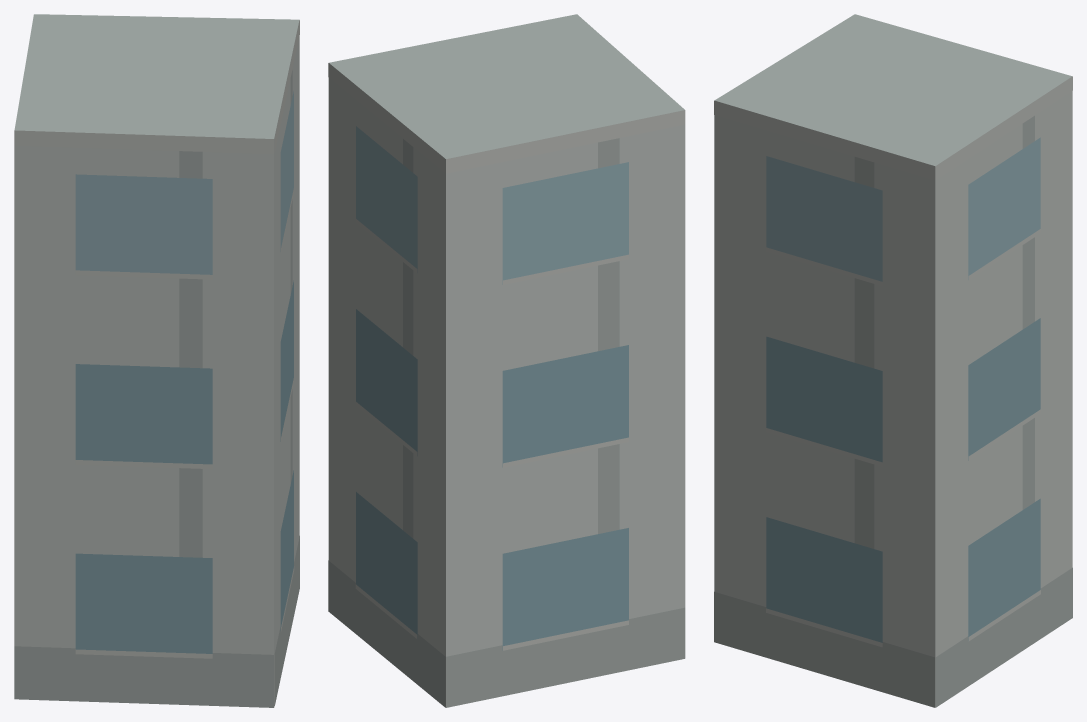
File: survey-upis-33006160.glb
3 views of the same model, side by side, from view 1: azimuth 30°, elevation 25°; view 2: azimuth 150°, elevation 25°; view 3: azimuth 270°, elevation 25° (orthographic). The views are drawn at different scales.
Parts seen in each view (by area): view 1: survey-upis-33006160.tmp; view 2: survey-upis-33006160.tmp; view 3: survey-upis-33006160.tmp.
Part boxes in pixels (x1,y1,x2,y2): survey-upis-33006160.tmp: [14, 14, 299, 707]; survey-upis-33006160.tmp: [328, 14, 685, 707]; survey-upis-33006160.tmp: [714, 14, 1072, 707].
Size of the model in its own units: 5.52 by 9.15 by 5.49.
